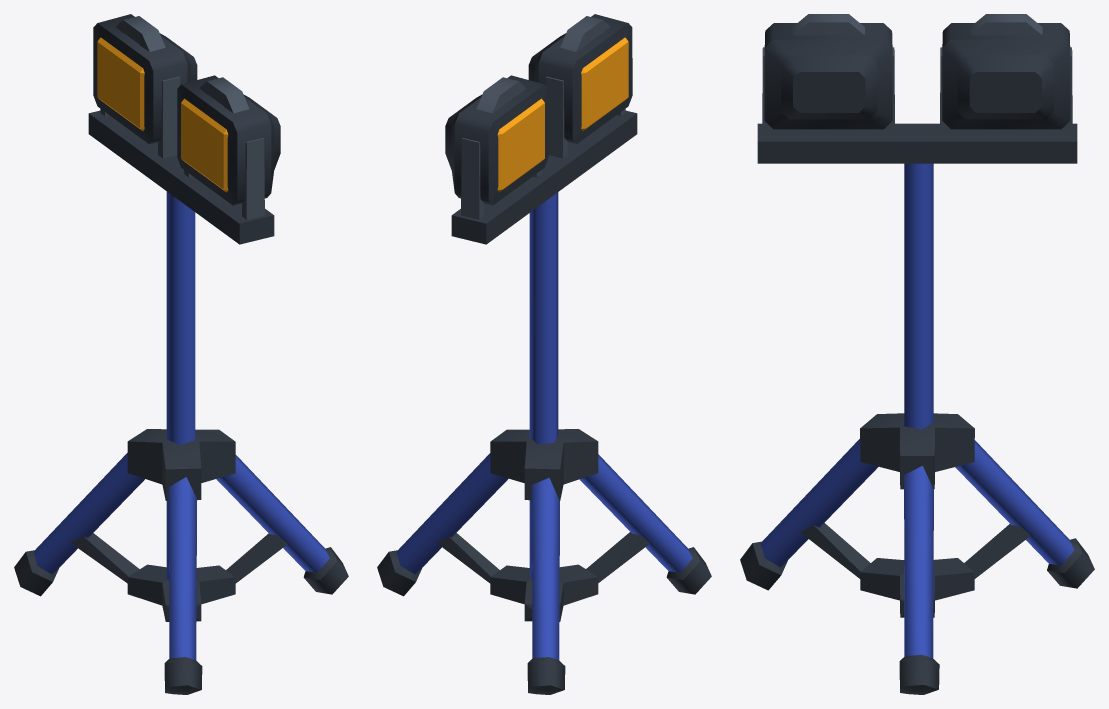
File: LightsC_1_C.fbx
3 renders of one model, left to right at view 1: azimuth 30°, elevation 25°; view 2: azimuth 150°, elevation 25°; view 3: azimuth 270°, elevation 25°, orthographic. The views are drawn at different scales.
Parts seen in each view (by area): view 1: LightsC_1_C; view 2: LightsC_1_C; view 3: LightsC_1_C.
Boxes of the visible parts, x1,y1,x2,y2 form: LightsC_1_C: (14,14,348,694); LightsC_1_C: (377,14,711,694); LightsC_1_C: (740,14,1094,694).
Size of the model in its own units: 75.14 by 160 by 85.05.
